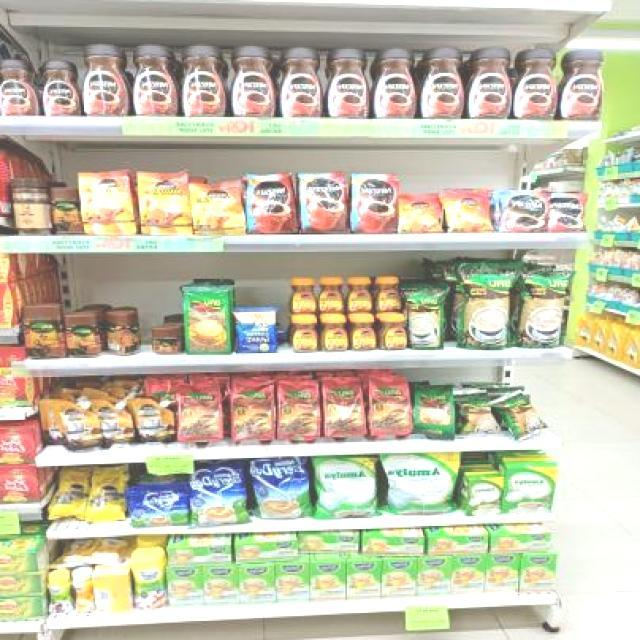Coffee: (80, 46, 130, 118), (81, 172, 136, 235), (132, 46, 180, 118), (556, 51, 604, 122), (182, 46, 228, 118), (230, 46, 276, 117), (467, 49, 512, 120), (326, 49, 371, 119), (373, 49, 417, 119), (280, 49, 324, 118), (141, 173, 190, 234), (514, 51, 556, 120), (299, 173, 346, 234), (422, 49, 462, 120), (247, 176, 296, 233), (193, 183, 246, 234), (351, 176, 398, 233), (0, 58, 41, 115), (42, 60, 82, 116), (502, 192, 547, 234), (446, 192, 489, 232), (400, 197, 441, 234), (548, 194, 584, 232), (322, 316, 348, 353), (376, 276, 402, 312), (292, 317, 318, 352), (318, 278, 344, 312), (383, 314, 406, 351), (351, 316, 376, 350), (292, 279, 316, 313), (348, 278, 371, 311)
